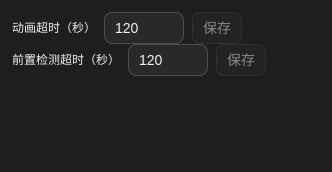
Test: 编辑超时仅在点击旁边的保存后持久化，动画与前置设置相互独立
Expected: the button with aria-label "保存动画超时" is disabled, [192,12,242,44]
Step 1. Replace the text in the number field labelled "动画超时（秒）" with "75" → (144, 28), box [104,12,184,44]
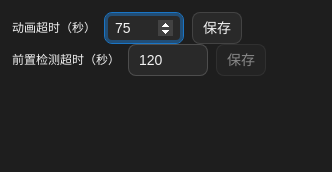
Step 2. Click the button with aria-label "保存动画超时" → (217, 28), box [192,12,242,44]
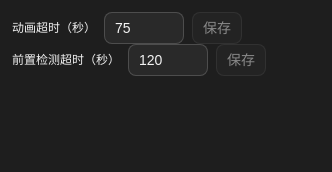
Expected: the number field labelled "前置检测超时（秒）" holds "120", [128,44,208,76]
Expected: the number field labelled "动画超时（秒）" holds "75", [104,12,184,44]
Expected: the button with aria-label "保存动画超时" is disabled, [192,12,242,44]
